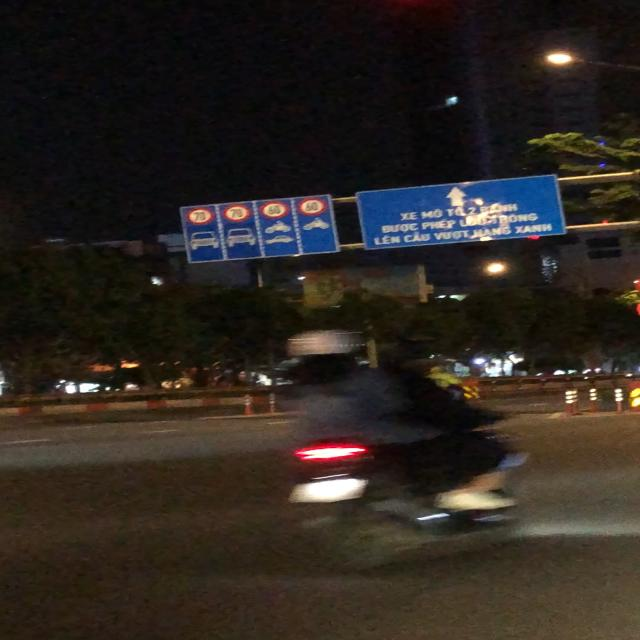Bien bao toc do toi da cho phep: (296, 196, 330, 217), (258, 200, 290, 220), (184, 206, 216, 226), (220, 204, 252, 222)
